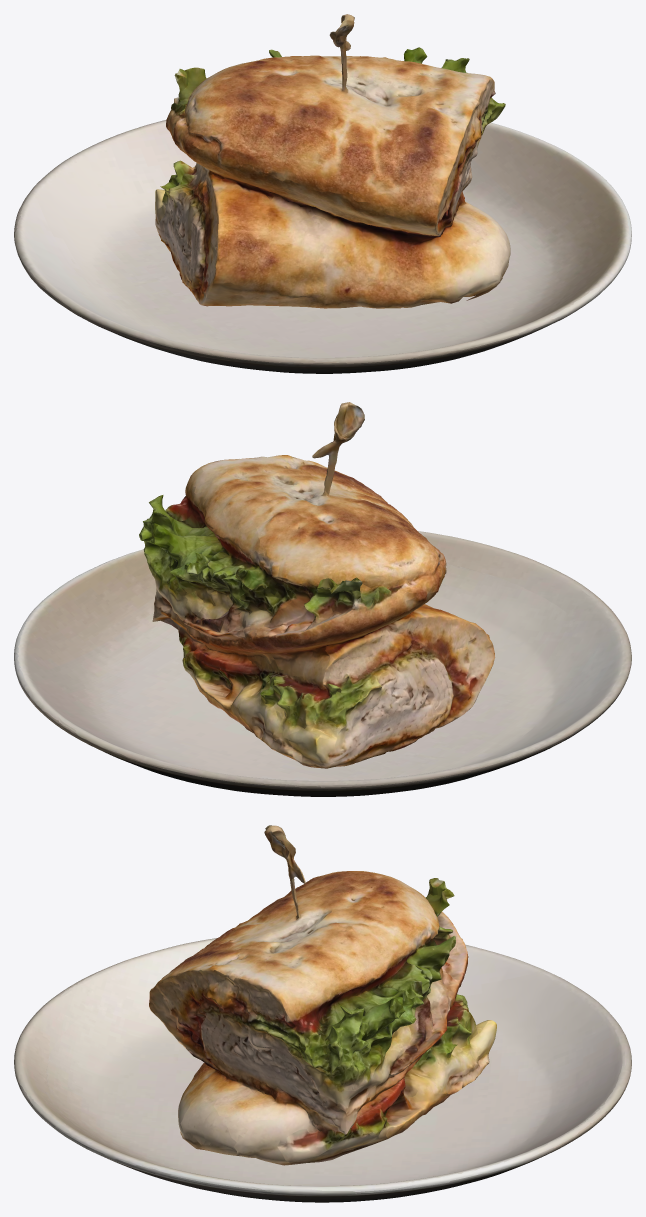
The model's file is set2.with.turkey.001.glb.
3 renders of one model, top to bottom at view 1: azimuth 30°, elevation 25°; view 2: azimuth 150°, elevation 25°; view 3: azimuth 270°, elevation 25°, orthographic.
Parts seen in each view (by area): view 1: /Root/Scenes/Scene/Object_38/Object_40/Submesh_0, /Root/Scenes/Scene/Object_38/Object_39/Submesh_0; view 2: /Root/Scenes/Scene/Object_38/Object_40/Submesh_0, /Root/Scenes/Scene/Object_38/Object_39/Submesh_0; view 3: /Root/Scenes/Scene/Object_38/Object_40/Submesh_0, /Root/Scenes/Scene/Object_38/Object_39/Submesh_0.
Boxes of the visible parts, left/top/right/bottom form: /Root/Scenes/Scene/Object_38/Object_40/Submesh_0: left=155, top=14, right=510, bottom=308; /Root/Scenes/Scene/Object_38/Object_39/Submesh_0: left=14, top=120, right=631, bottom=373; /Root/Scenes/Scene/Object_38/Object_40/Submesh_0: left=139, top=402, right=495, bottom=768; /Root/Scenes/Scene/Object_38/Object_39/Submesh_0: left=14, top=531, right=631, bottom=796; /Root/Scenes/Scene/Object_38/Object_40/Submesh_0: left=149, top=825, right=496, bottom=1165; /Root/Scenes/Scene/Object_38/Object_39/Submesh_0: left=14, top=938, right=631, bottom=1202.
Bounding box in the file's own units: 0.2901 × 0.1473 × 0.2901.
Materials: 2 (2 with a texture image).
